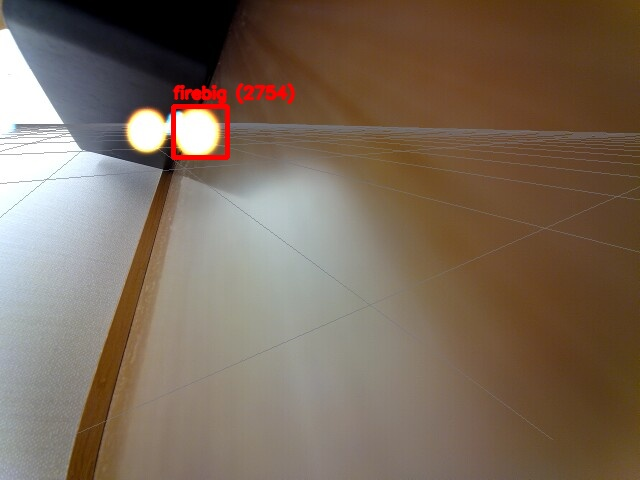firebig: (173, 106, 227, 157)
